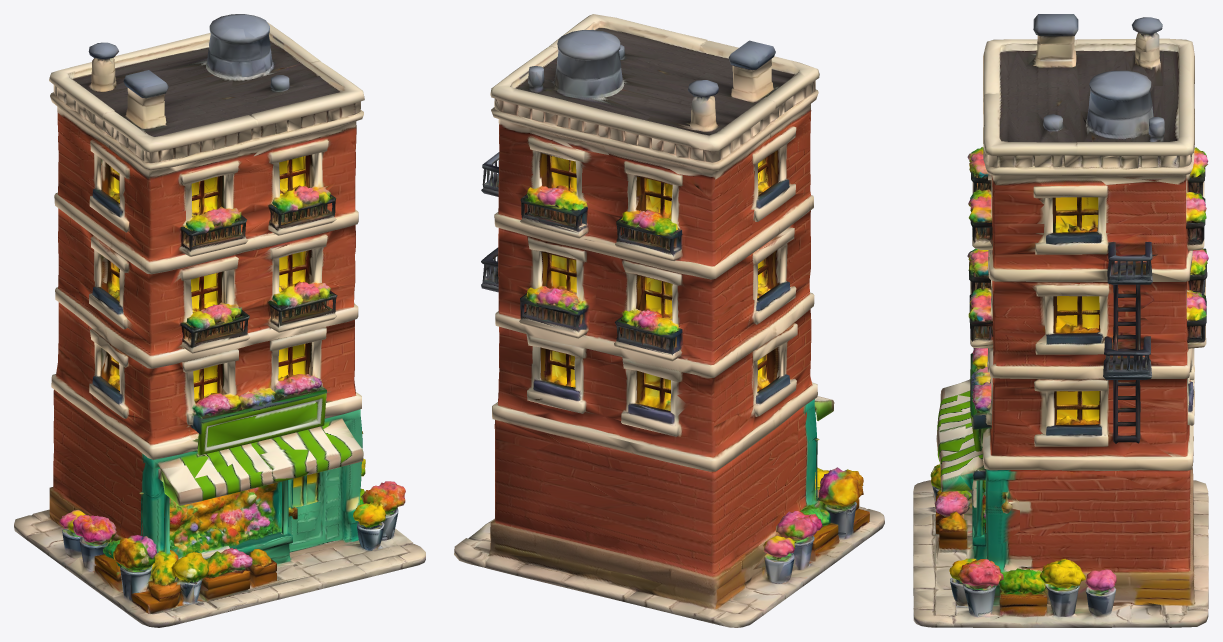
The model's file is immeuble2.glb.
3 renders of one model, left to right at view 1: azimuth 30°, elevation 25°; view 2: azimuth 150°, elevation 25°; view 3: azimuth 270°, elevation 25°, orthographic. The views are drawn at different scales.
Parts seen in each view (by area): view 1: Mesh_0; view 2: Mesh_0; view 3: Mesh_0.
Part boxes in pixels (x1,y1,x2,y2): Mesh_0: (14,14,425,627); Mesh_0: (454,14,884,627); Mesh_0: (913,14,1208,627).
Size of the model in its own units: 1.16 by 1.9 by 1.01.
Materials: 1 (1 with a texture image).
